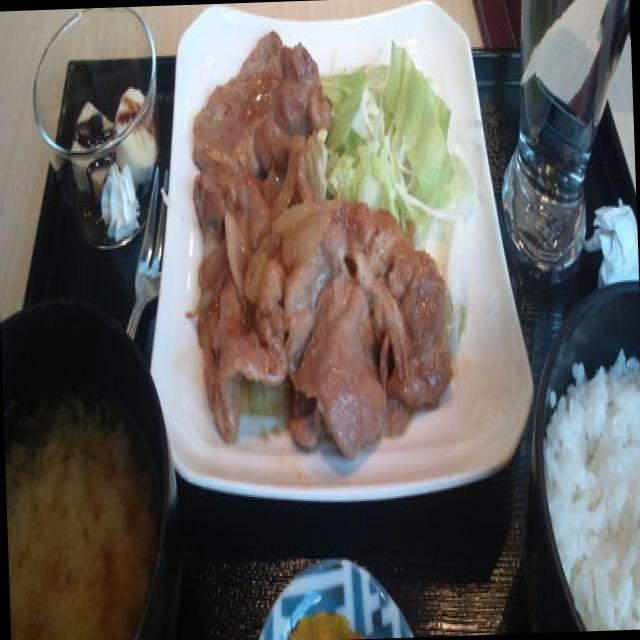Rice: (546, 342, 640, 631)
